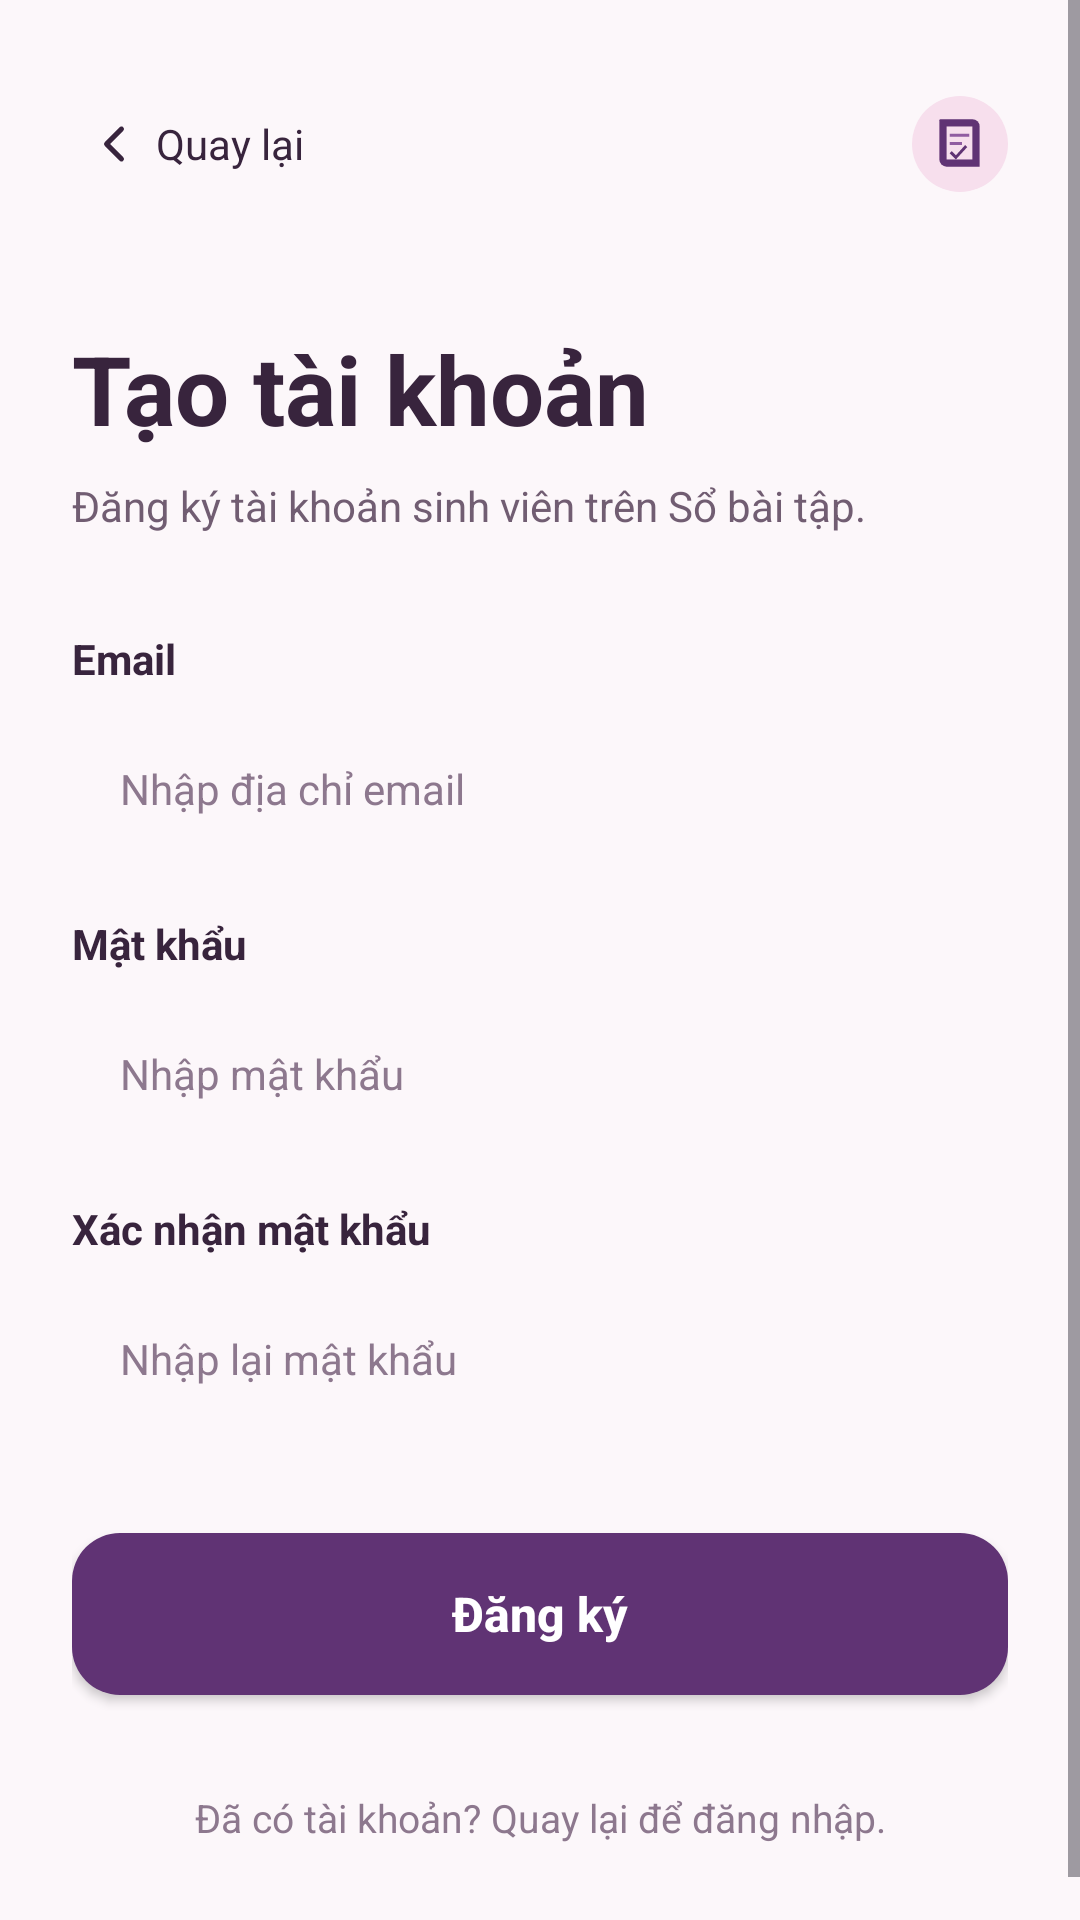

Locate icon controls on the screen. Image size 1080 x 1920, boxes as (x1, y1, x2, y2).
mark: (939, 119, 980, 167)
